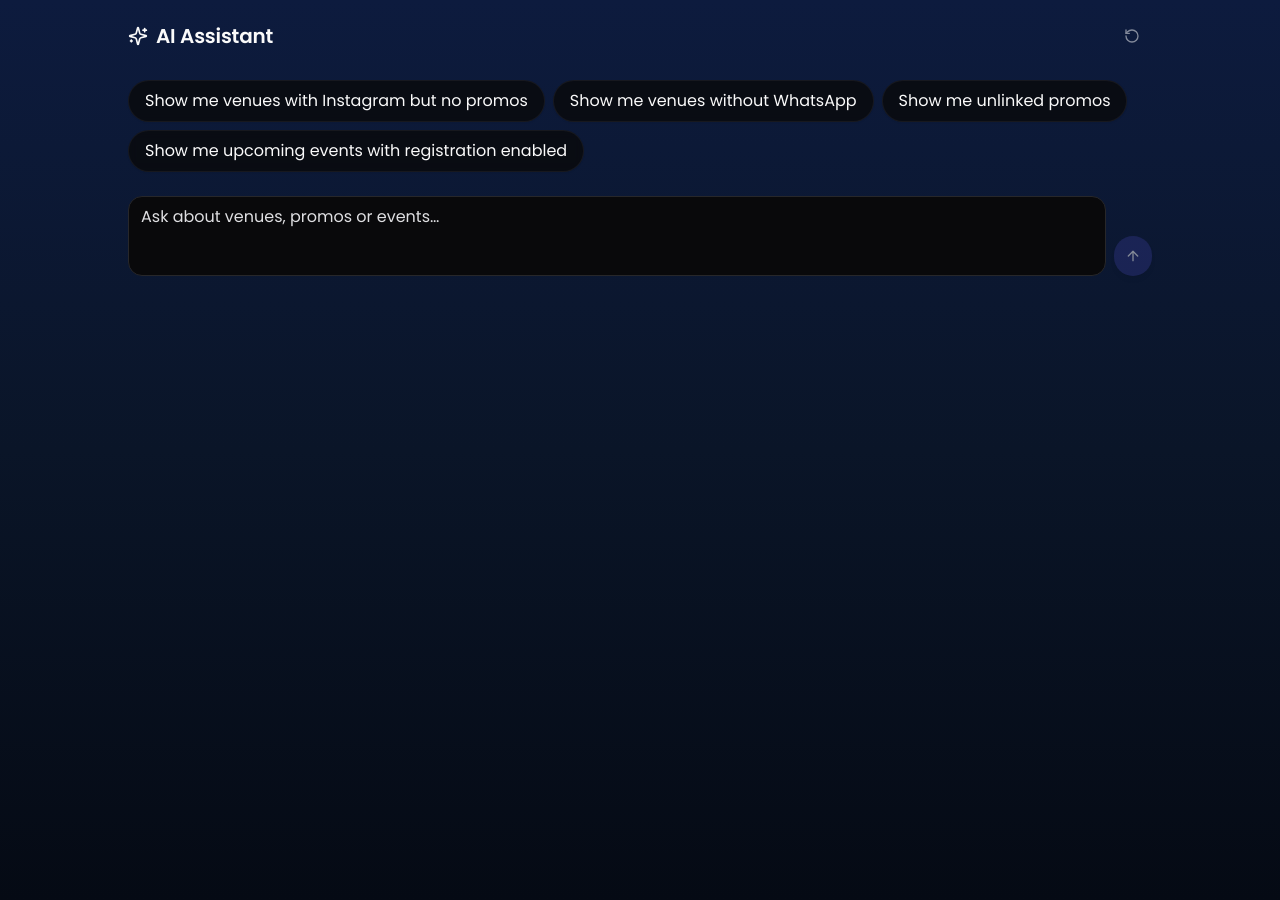
Test case: shows the safe service error instead of fabricated results
This screenshot has width=1280, height=900.
Step 1. Type "List venues" into the text box → (617, 236), box [128,196,1106,276]
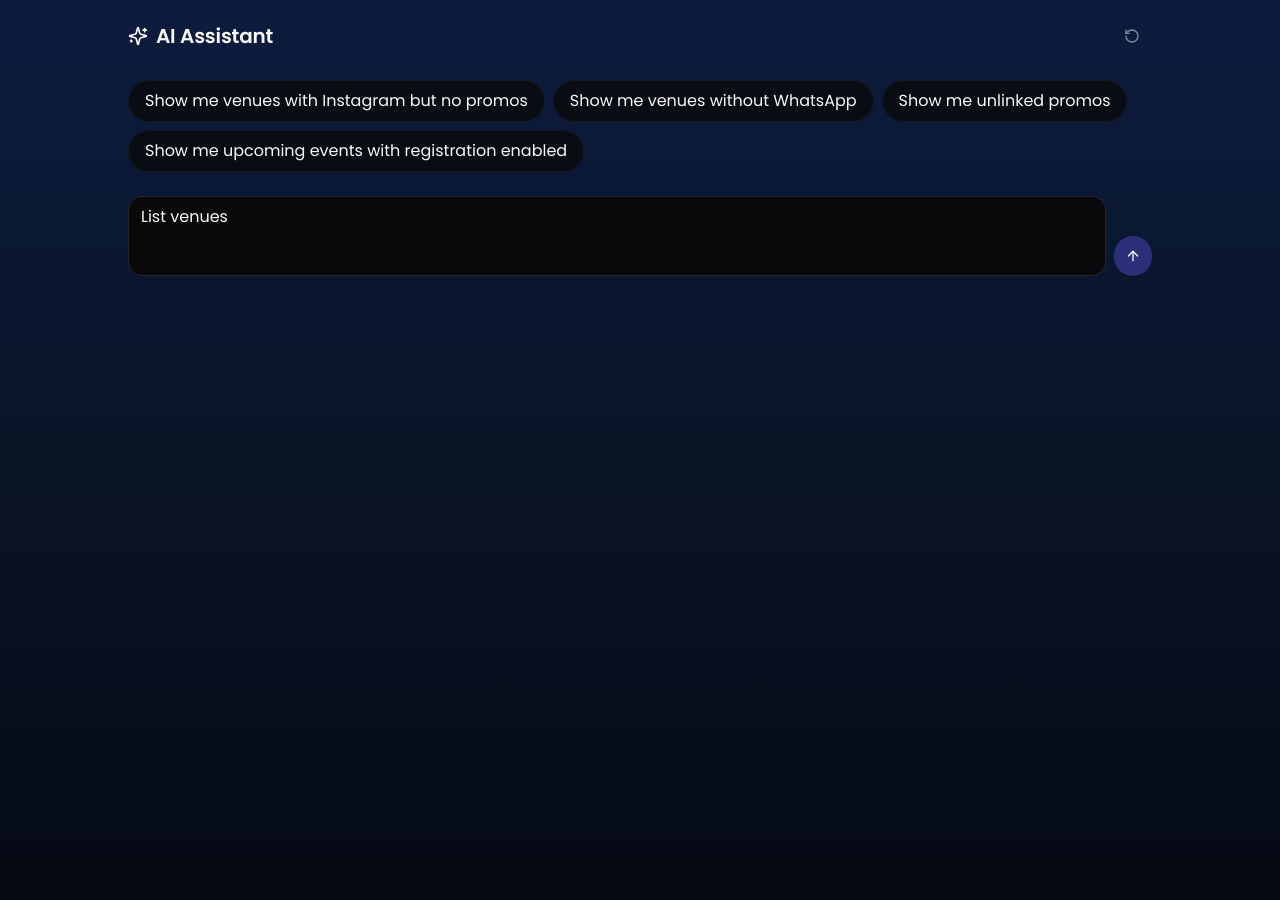
Step 2. Click the button named "Send question" → (1133, 256), box [1114,236,1152,276]
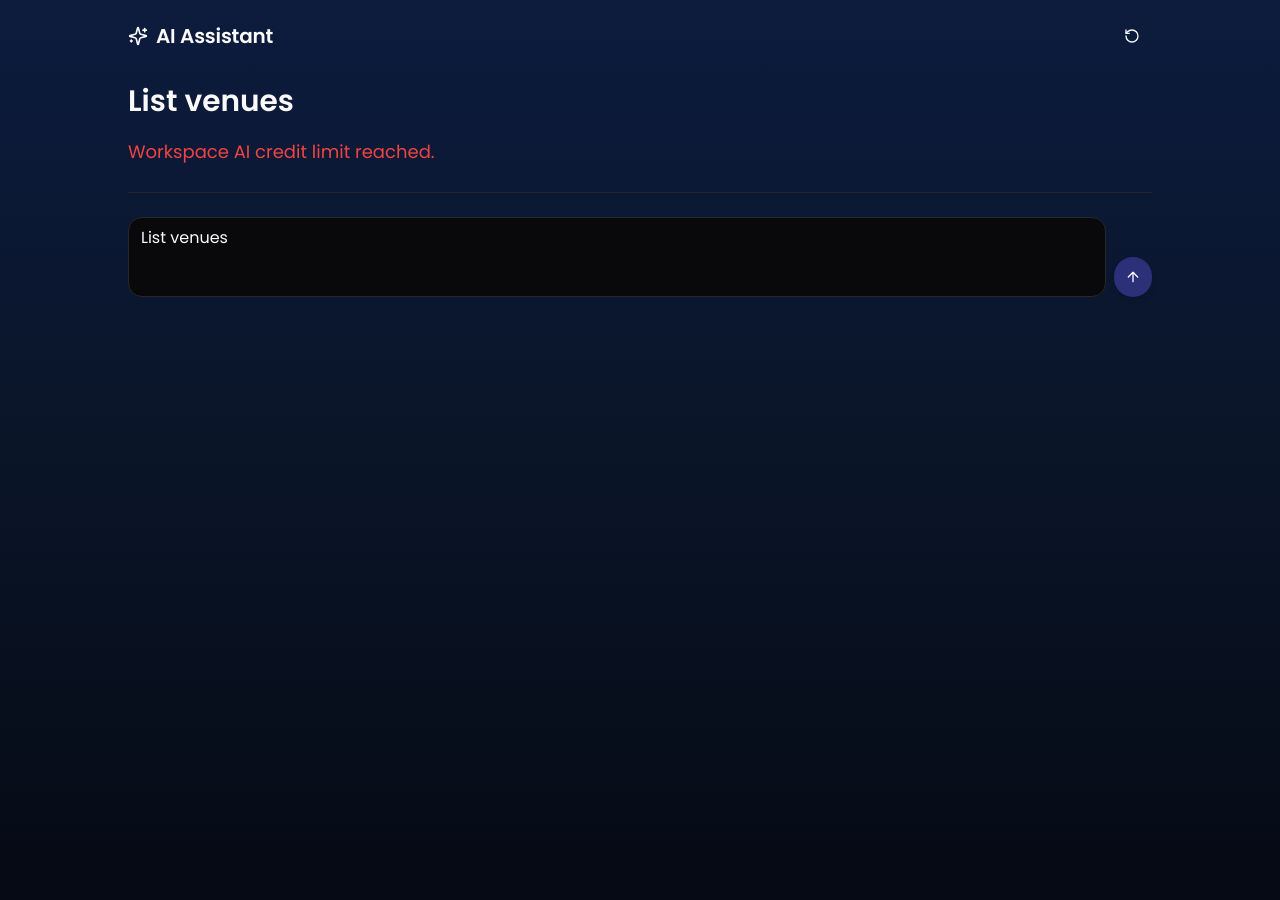
Result: the message reads "Workspace AI credit limit reached." at [128,139,435,164]
